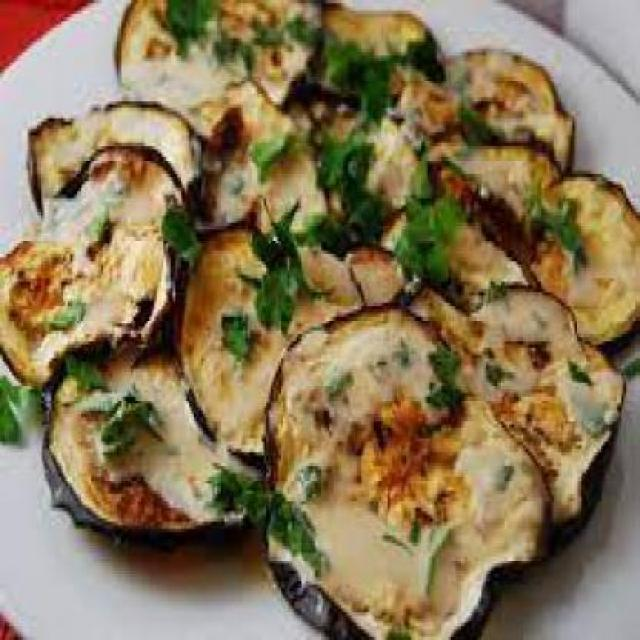hummus: (74, 59, 524, 588)
